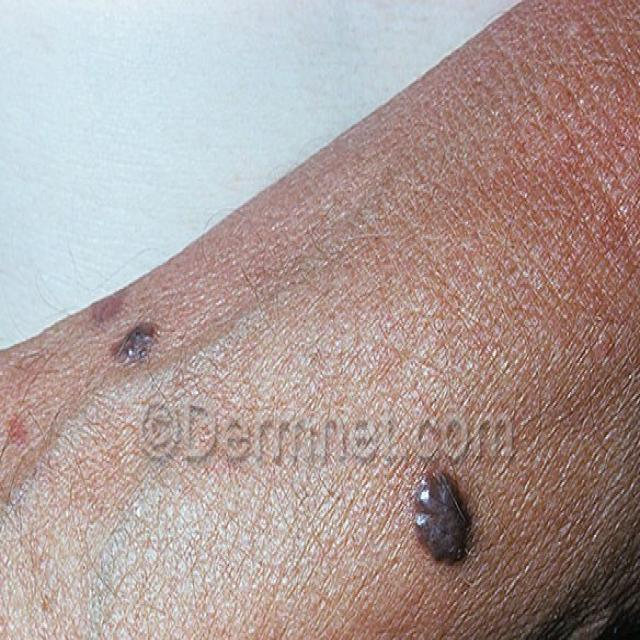Vascular Tumors: (405, 461, 466, 579), (108, 328, 168, 373), (63, 287, 140, 314), (4, 417, 34, 457)
